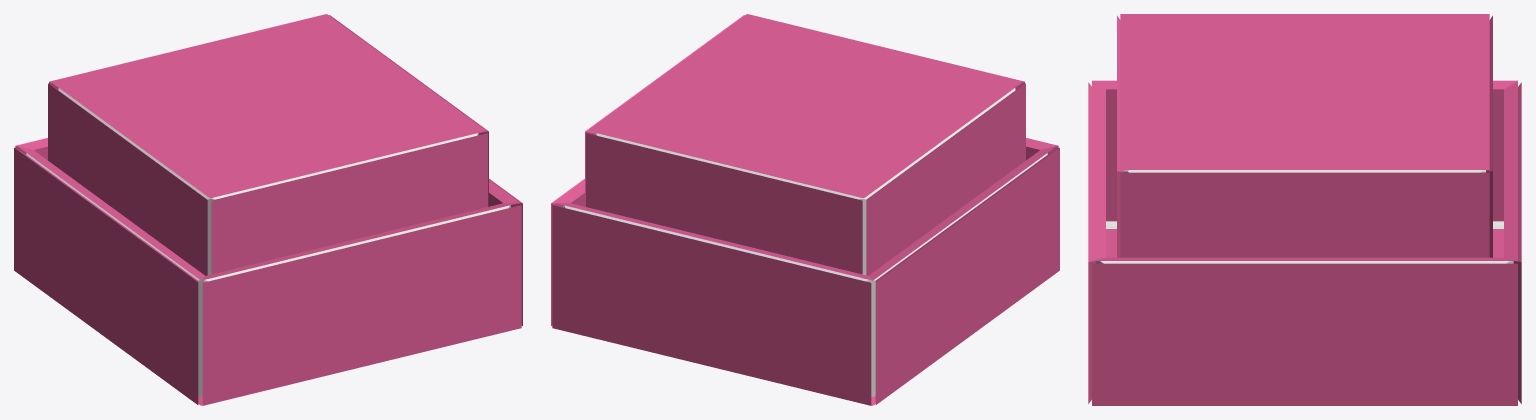
The model's file is knopka.fbx.
3 renders of one model, left to right at view 1: azimuth 30°, elevation 25°; view 2: azimuth 150°, elevation 25°; view 3: azimuth 270°, elevation 25°, orthographic. The views are drawn at different scales.
Parts seen in each view (by area): view 1: Cube, Cube.001; view 2: Cube, Cube.001; view 3: Cube, Cube.001.
Boxes of the visible parts, x1,y1,x2,y2 form: Cube: (48, 14, 488, 275); Cube.001: (14, 138, 522, 405); Cube: (585, 14, 1025, 275); Cube.001: (551, 138, 1059, 405); Cube: (1117, 14, 1492, 257); Cube.001: (1088, 80, 1521, 405).
Size of the model in its own units: 140 by 79.84 by 140.
